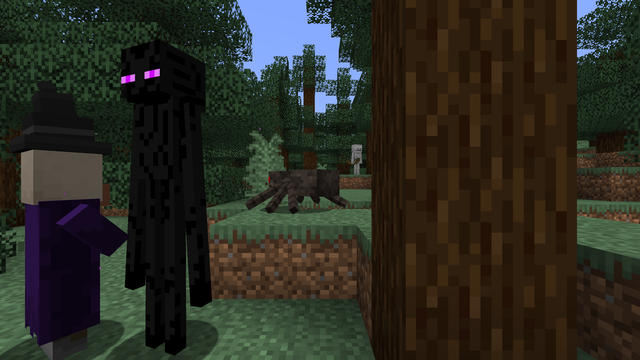araignees: (255, 165, 329, 213)
endermens: (109, 30, 209, 356)
sorcieres: (10, 141, 93, 356)
squelettes: (351, 144, 361, 173)
